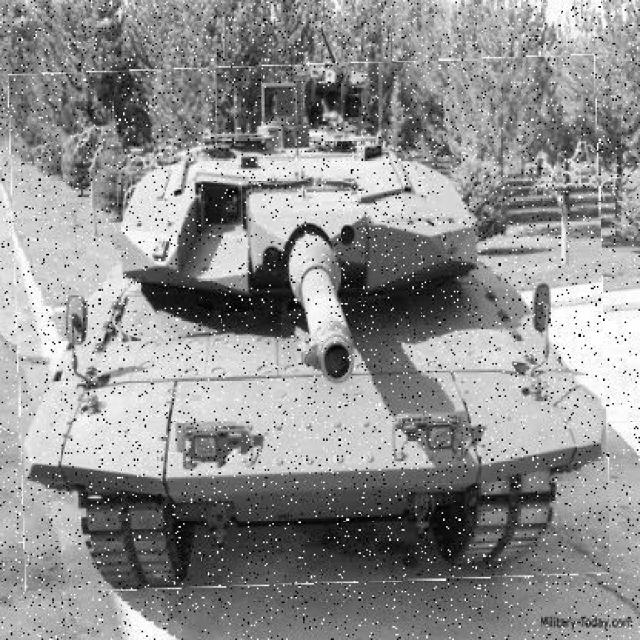Tank: (13, 61, 609, 589)
